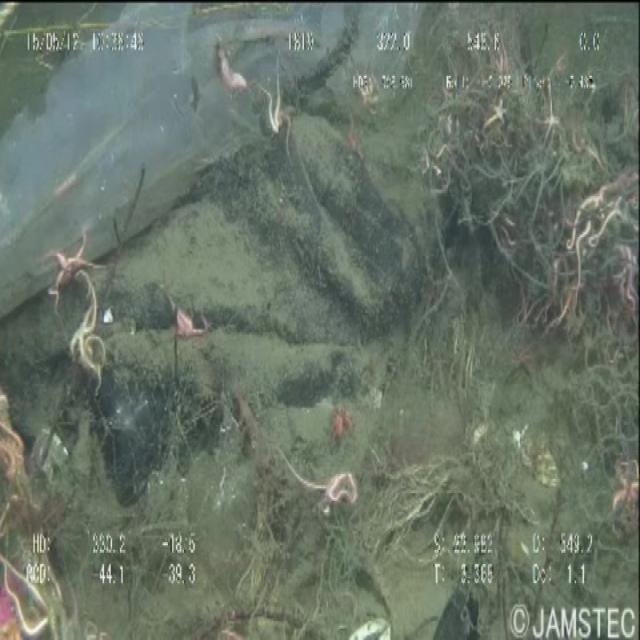Plastic: (2, 0, 420, 329)
Rope: (431, 1, 640, 551)
